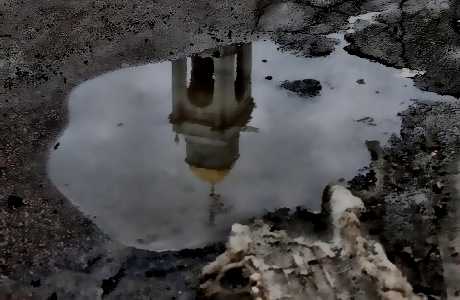pothole: (46, 33, 444, 252)
